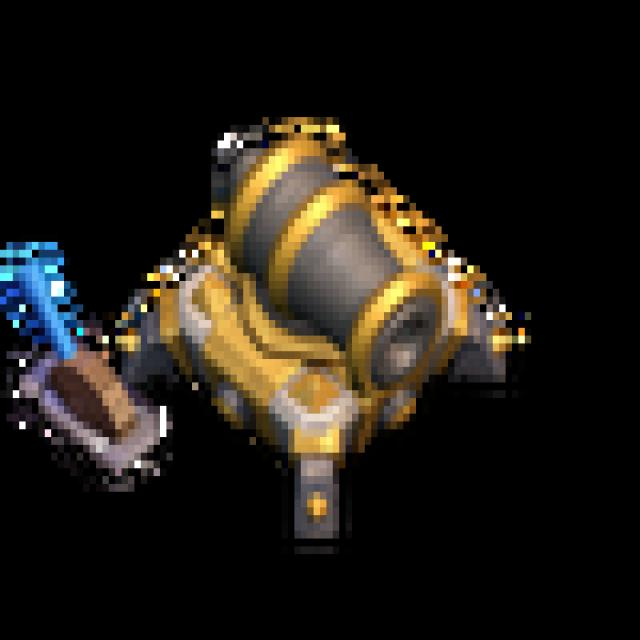cannon: (2, 84, 587, 574)
